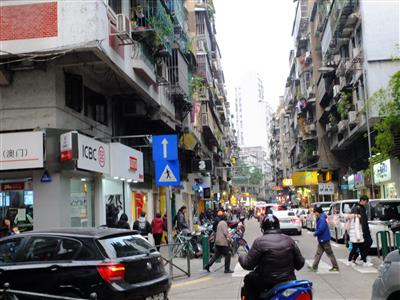oneway: (149, 133, 180, 160)
pedestrianCrossing: (151, 160, 181, 187)
